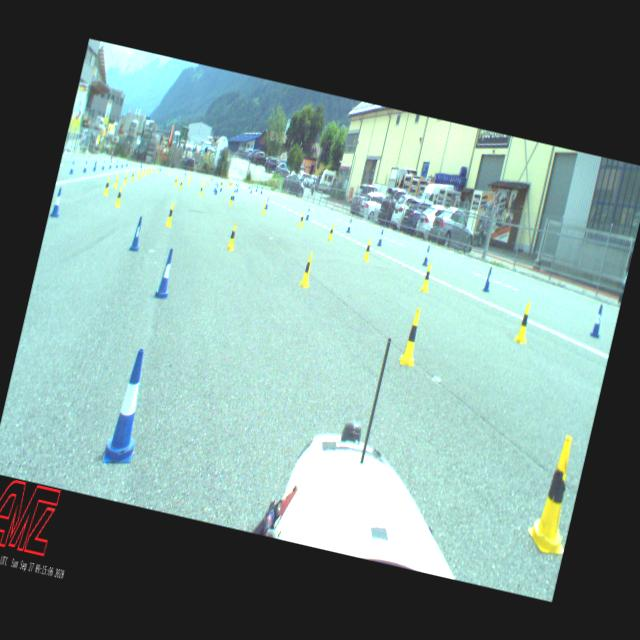blue_cone: (102, 346, 156, 467), (154, 247, 178, 300), (128, 216, 146, 252), (590, 304, 606, 337), (49, 188, 64, 218), (482, 266, 494, 292), (422, 245, 431, 266), (376, 228, 384, 246), (345, 218, 352, 232), (69, 160, 75, 173), (264, 196, 270, 209), (82, 161, 88, 172), (305, 207, 310, 220), (92, 160, 97, 171), (232, 189, 236, 200), (214, 183, 218, 194), (214, 181, 218, 191), (108, 160, 112, 169), (235, 184, 239, 192), (102, 160, 105, 170), (220, 182, 223, 192), (255, 186, 258, 192), (184, 170, 187, 176), (250, 186, 252, 193), (260, 187, 262, 194)
yellow_cone: (524, 432, 588, 556), (398, 306, 426, 366), (514, 301, 534, 343), (299, 250, 316, 288), (419, 262, 434, 292), (226, 222, 238, 250), (164, 202, 176, 227), (362, 238, 373, 260), (115, 186, 124, 207), (102, 177, 110, 195), (326, 223, 334, 241), (260, 201, 268, 215), (298, 211, 304, 227), (113, 174, 119, 188), (228, 192, 234, 205), (198, 184, 204, 196), (123, 172, 128, 184), (130, 170, 135, 181), (136, 168, 141, 179), (174, 175, 178, 186), (187, 174, 191, 185), (179, 179, 183, 189), (140, 168, 144, 177), (144, 168, 148, 175), (228, 180, 231, 188), (202, 178, 205, 186), (230, 180, 233, 187), (227, 179, 230, 186), (220, 178, 222, 187)
